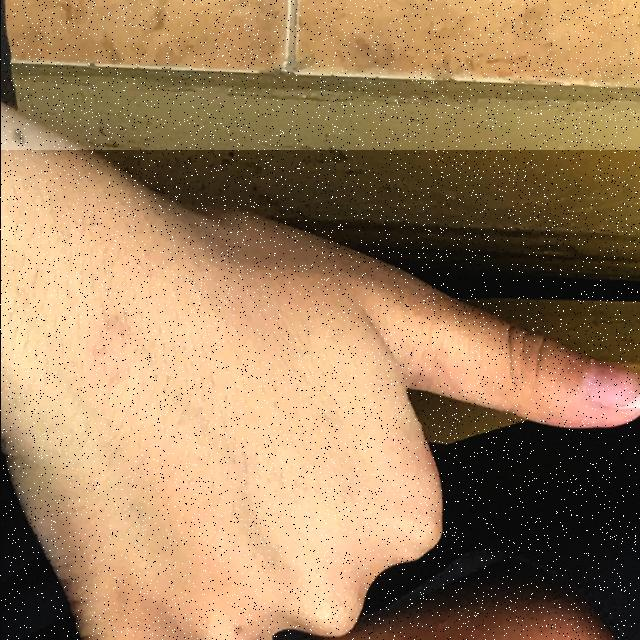telpon: (0, 150, 640, 640)
